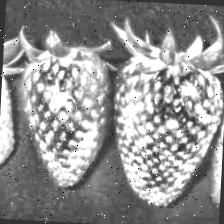Powdery Mildew Fruit: (106, 46, 224, 210), (14, 42, 118, 189)
